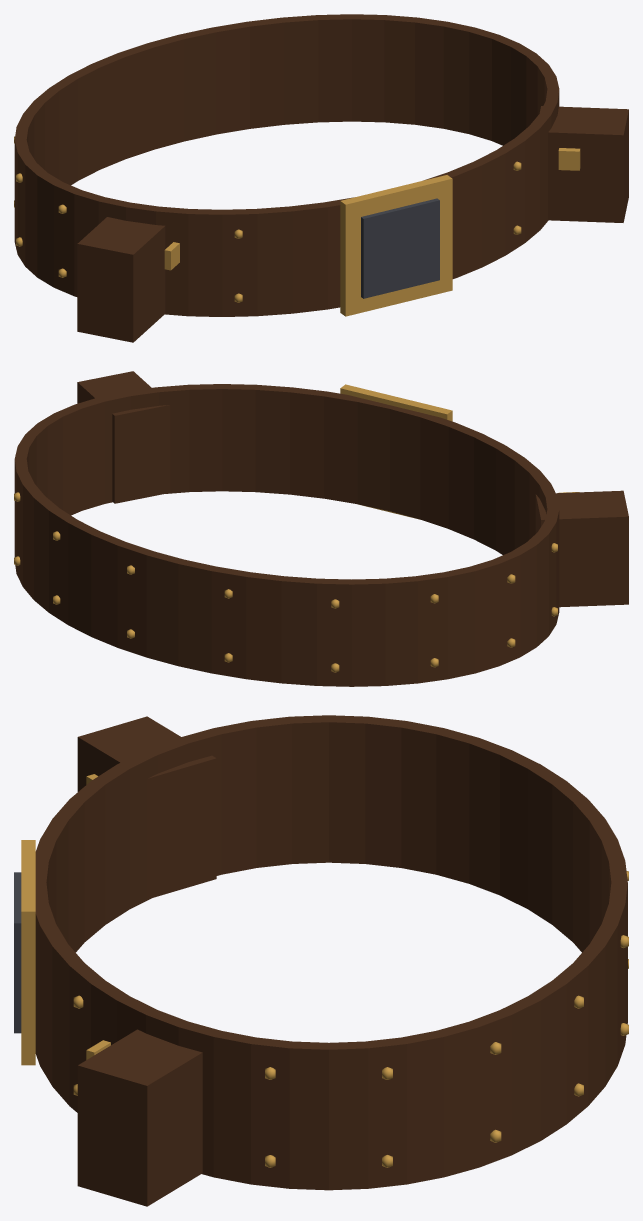
The model's file is belt_strength.glb.
3 renders of one model, top to bottom at view 1: azimuth 30°, elevation 25°; view 2: azimuth 150°, elevation 25°; view 3: azimuth 270°, elevation 25°, orthographic. The views are drawn at different scales.
Visible parts, largest first — view 1: Belt_Strength_Leather, Belt_Strength_Brass, Belt_Strength_Darksteel; view 2: Belt_Strength_Leather, Belt_Strength_Brass; view 3: Belt_Strength_Leather, Belt_Strength_Brass, Belt_Strength_Darksteel.
Part boxes in pixels (left/top/right/bottom): Belt_Strength_Leather: left=14, top=14, right=628, bottom=342; Belt_Strength_Brass: left=14, top=136, right=580, bottom=316; Belt_Strength_Darksteel: left=361, top=198, right=439, bottom=298; Belt_Strength_Leather: left=14, top=371, right=628, bottom=686; Belt_Strength_Brass: left=14, top=384, right=579, bottom=672; Belt_Strength_Leather: left=35, top=715, right=627, bottom=1206; Belt_Strength_Brass: left=21, top=774, right=628, bottom=1167; Belt_Strength_Darksteel: left=14, top=872, right=21, bottom=1033.
Size of the model in its own units: 0.361 by 0.07 by 0.2539.
